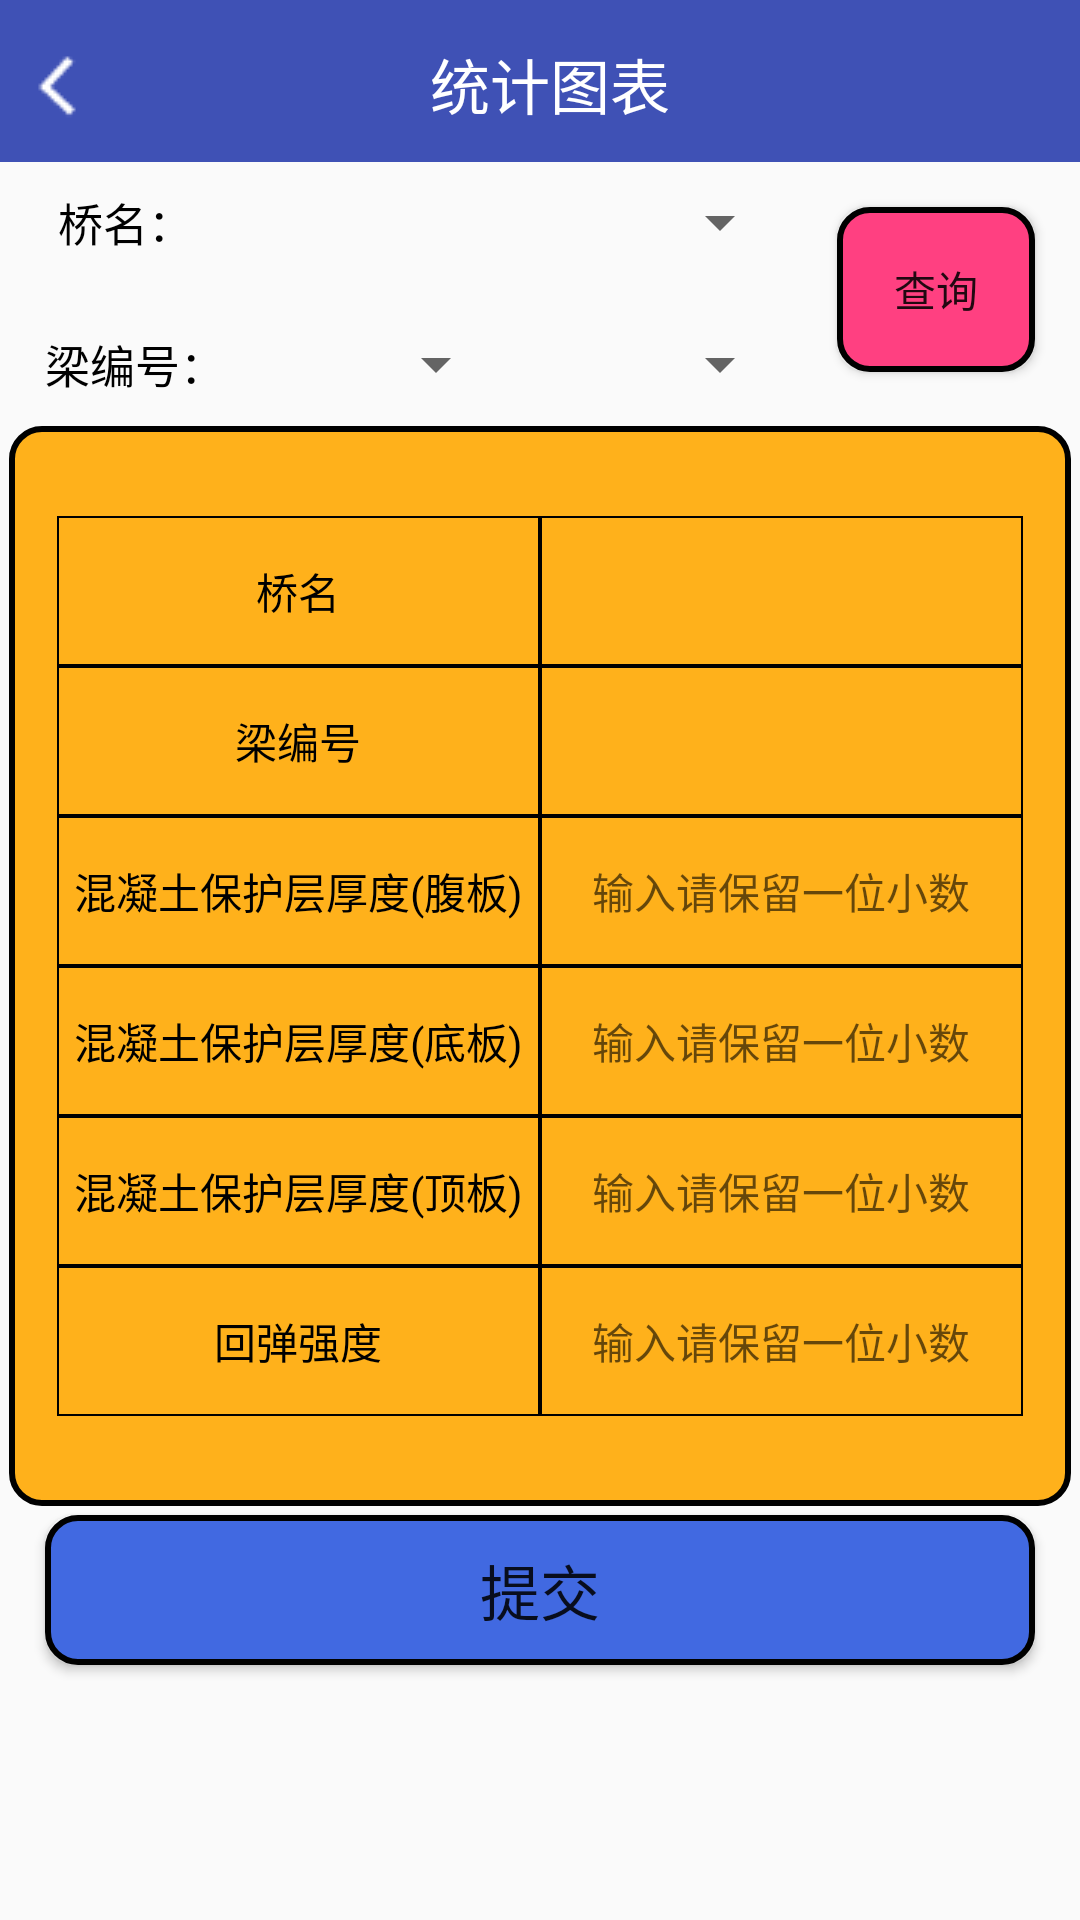

Where icons sit on this 1080 × 1920 app screen, as (x1, y1, x2, y2):
back: (39, 56, 76, 115)
